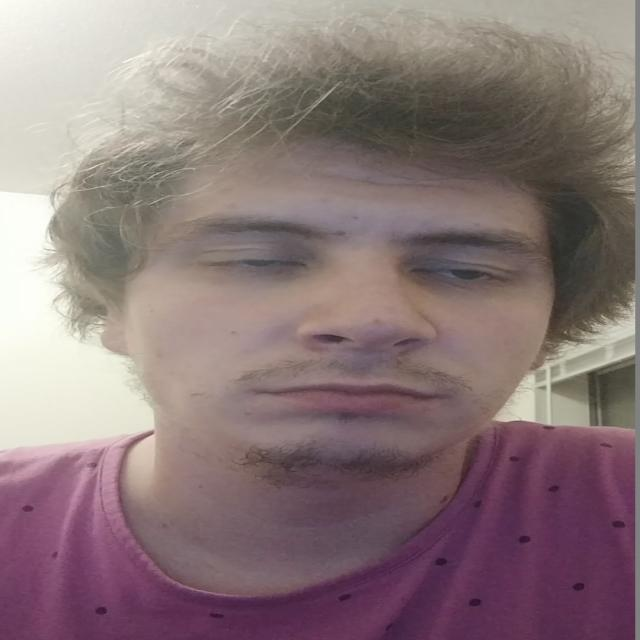Eyeclosed: (414, 256, 520, 294), (210, 244, 311, 279)
